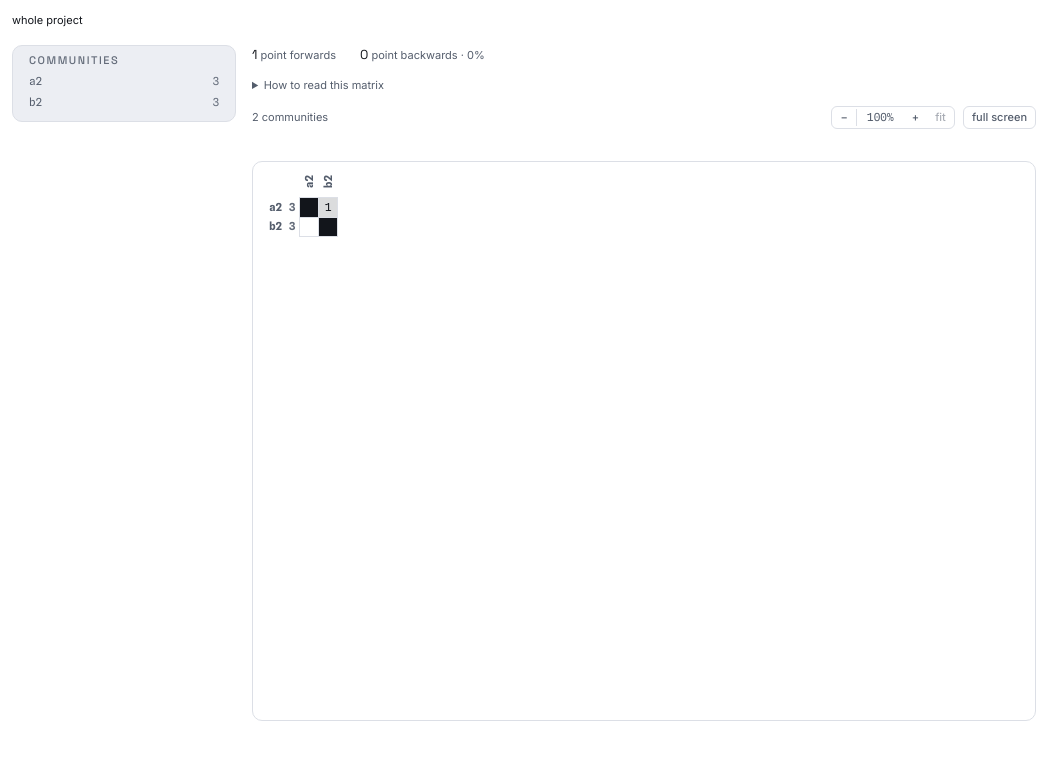
Test: what a community touches › names both directions, and never one number over the pair
The image size is (1048, 778).
Click the 1st button "a2 3": (124, 82) [21, 71, 227, 92]
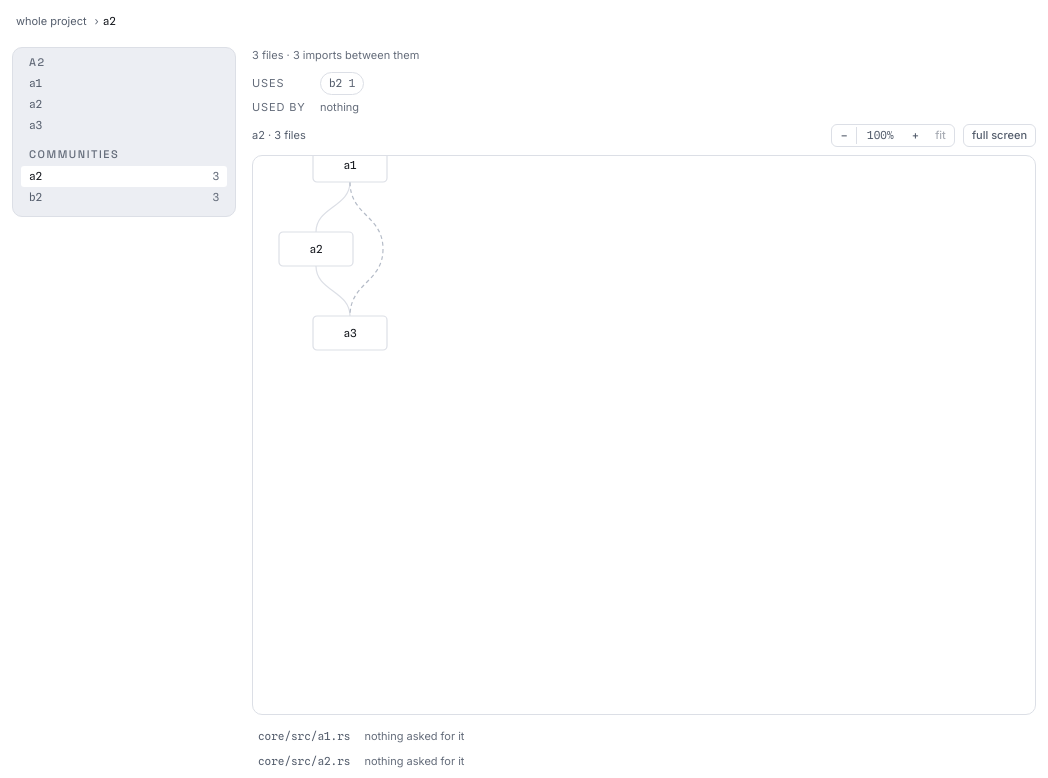
Expected: the text "uses" is shown, [252, 76, 284, 90]
Expected: the text "used by" is shown, [252, 100, 306, 114]
